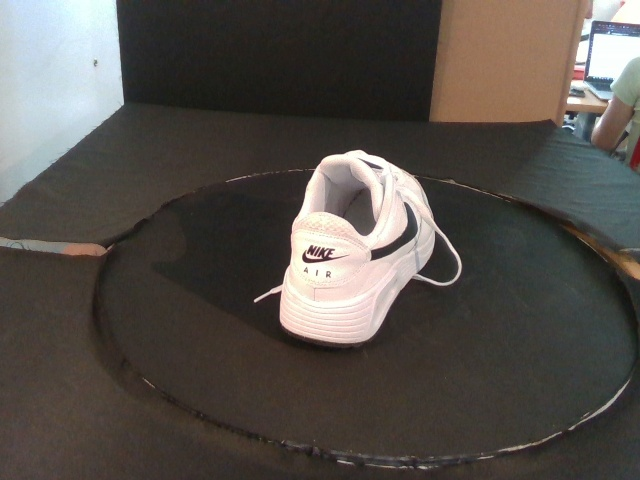shoe: (279, 150, 437, 351)
